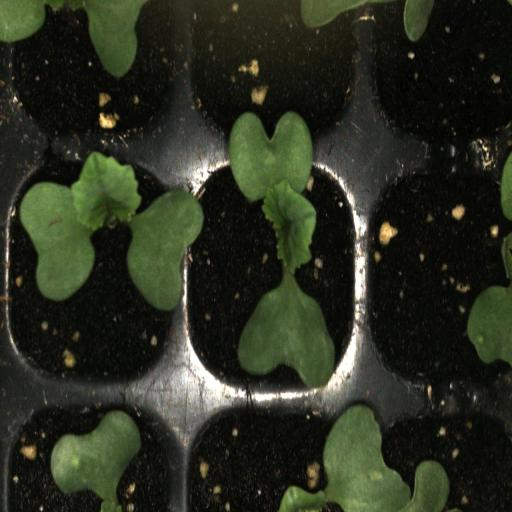Folha: (279, 404, 449, 512), (0, 0, 151, 78), (299, 0, 385, 30)
Germinacao: (181, 152, 362, 399), (5, 153, 182, 398)
